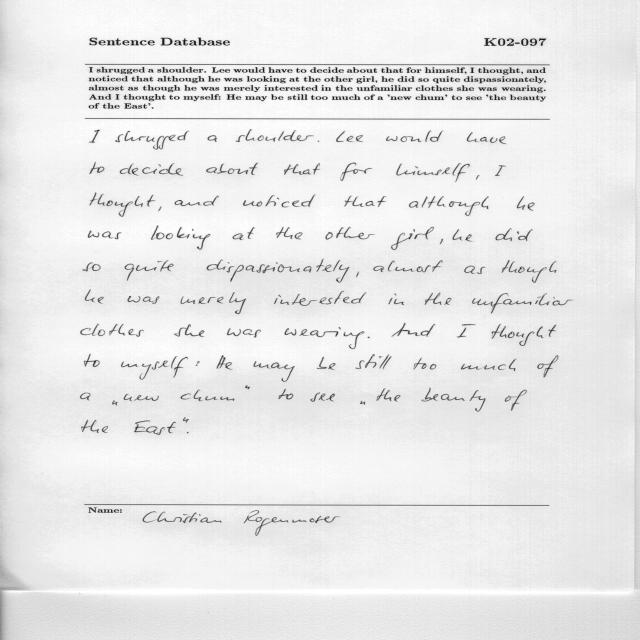word: (207, 259, 350, 283), (473, 293, 574, 313), (285, 327, 365, 349), (121, 356, 188, 380), (409, 196, 489, 216), (90, 193, 155, 217), (421, 388, 486, 412), (181, 292, 247, 314), (151, 226, 210, 250), (492, 324, 556, 346), (115, 131, 189, 150), (396, 163, 470, 182), (274, 291, 366, 306), (502, 260, 557, 283), (124, 260, 174, 281), (391, 227, 434, 250), (236, 130, 314, 142), (243, 195, 315, 208), (253, 361, 295, 382), (374, 260, 443, 272), (120, 163, 183, 176), (81, 324, 144, 337), (461, 359, 517, 371), (326, 227, 375, 240), (134, 420, 176, 435), (386, 131, 443, 142), (206, 163, 258, 175), (392, 323, 436, 337), (340, 162, 372, 181), (181, 390, 235, 401), (355, 354, 392, 370), (496, 228, 533, 241), (467, 132, 506, 144), (344, 196, 386, 207), (538, 356, 559, 378), (505, 390, 527, 411), (175, 196, 219, 206), (284, 163, 320, 175), (174, 324, 204, 337), (227, 328, 261, 338), (82, 420, 108, 433), (377, 388, 401, 402), (276, 227, 303, 239), (425, 293, 452, 305), (232, 227, 255, 240), (336, 131, 363, 142), (88, 231, 122, 239), (517, 196, 535, 211), (85, 290, 104, 304), (457, 324, 476, 338), (128, 296, 160, 304), (453, 229, 472, 242), (317, 357, 336, 370), (124, 394, 159, 401), (414, 358, 436, 369), (217, 355, 232, 370), (310, 393, 335, 402), (85, 354, 100, 367), (389, 294, 405, 305), (90, 162, 104, 174), (465, 266, 486, 274), (83, 263, 101, 272), (279, 389, 294, 399), (90, 130, 100, 143), (495, 165, 506, 176), (80, 393, 91, 401), (207, 135, 217, 142), (183, 417, 189, 423), (112, 401, 118, 406), (196, 361, 200, 366), (245, 386, 250, 390), (360, 401, 365, 405), (356, 272, 359, 278), (476, 175, 479, 180), (159, 207, 162, 212), (440, 239, 443, 244), (318, 141, 320, 142), (368, 337, 370, 338), (187, 432, 189, 433)
